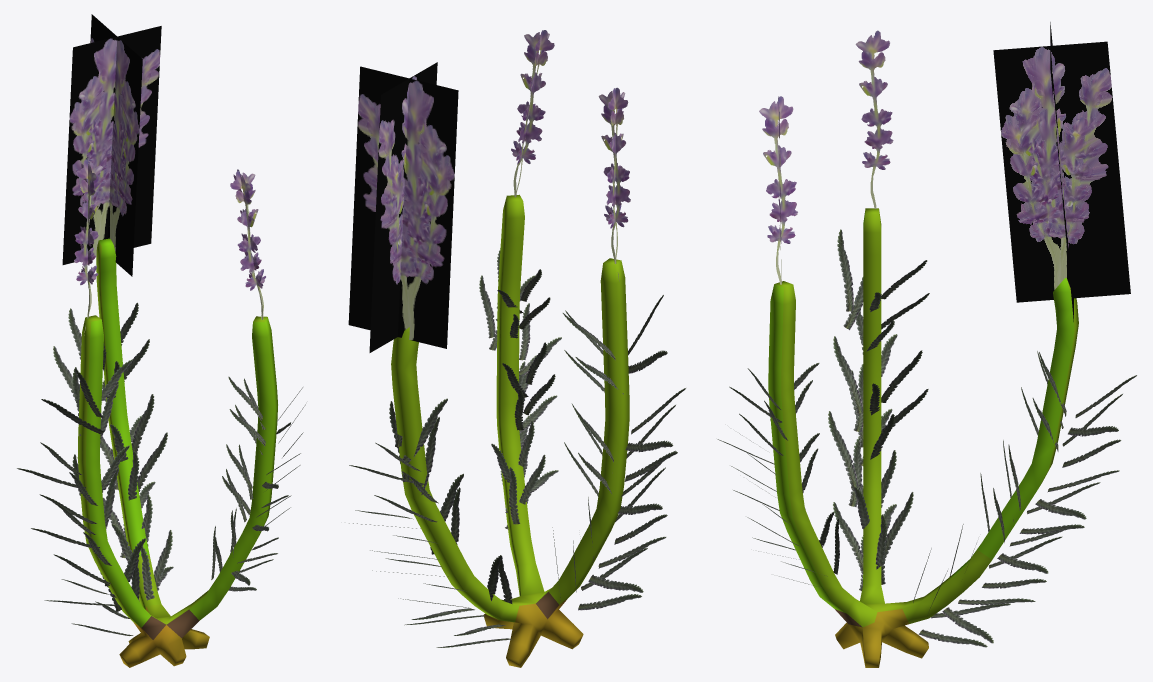
Rendered from lavanda.fbx.
3 views of the same model, side by side, from view 1: azimuth 30°, elevation 25°; view 2: azimuth 150°, elevation 25°; view 3: azimuth 270°, elevation 25° (orthographic). The views are drawn at different scales.
Parts seen in each view (by area): view 1: lavanda, florLavandaDois, lavandaFolha, florLavandaUm; view 2: lavanda, florLavandaDois, lavandaFolha, florLavandaUm; view 3: florLavandaDois, lavanda, lavandaFolha, florLavandaUm.
Part boxes in pixels (x1,y1,x2,y2): lavanda: (77, 238, 277, 667); florLavandaDois: (62, 14, 161, 276); lavandaFolha: (17, 302, 305, 635); florLavandaUm: (74, 158, 265, 335); lavanda: (391, 194, 629, 667); florLavandaDois: (348, 62, 458, 352); lavandaFolha: (349, 248, 685, 647); florLavandaUm: (511, 30, 630, 281); florLavandaDois: (993, 22, 1130, 321); lavanda: (768, 208, 1078, 667); lavandaFolha: (717, 229, 1136, 647); florLavandaUm: (759, 30, 893, 284).
Size of the model in its own units: 40.34 by 92.63 by 55.82.
